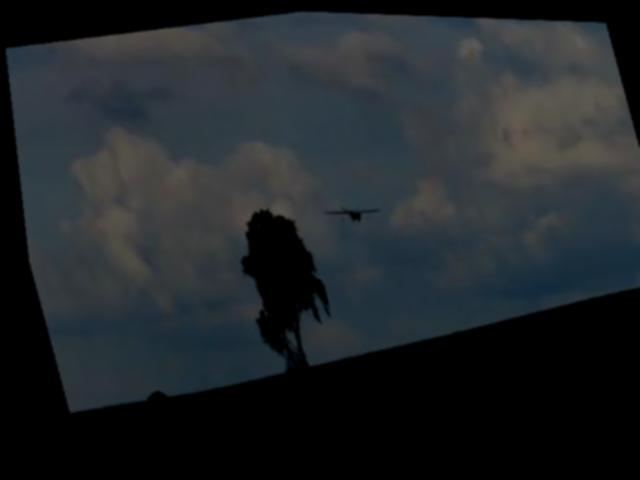uav: (316, 192, 381, 232)
